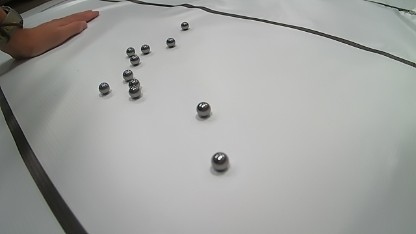ironball: (211, 152, 229, 171), (197, 102, 211, 117), (129, 85, 141, 99), (98, 82, 110, 94), (122, 69, 133, 81), (128, 78, 140, 88), (130, 54, 140, 65), (166, 37, 175, 47), (141, 44, 150, 54), (126, 47, 135, 57), (181, 21, 189, 30)
